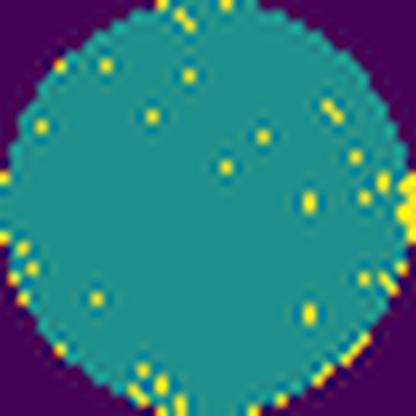Edge-Loc: (390, 163, 415, 245)
